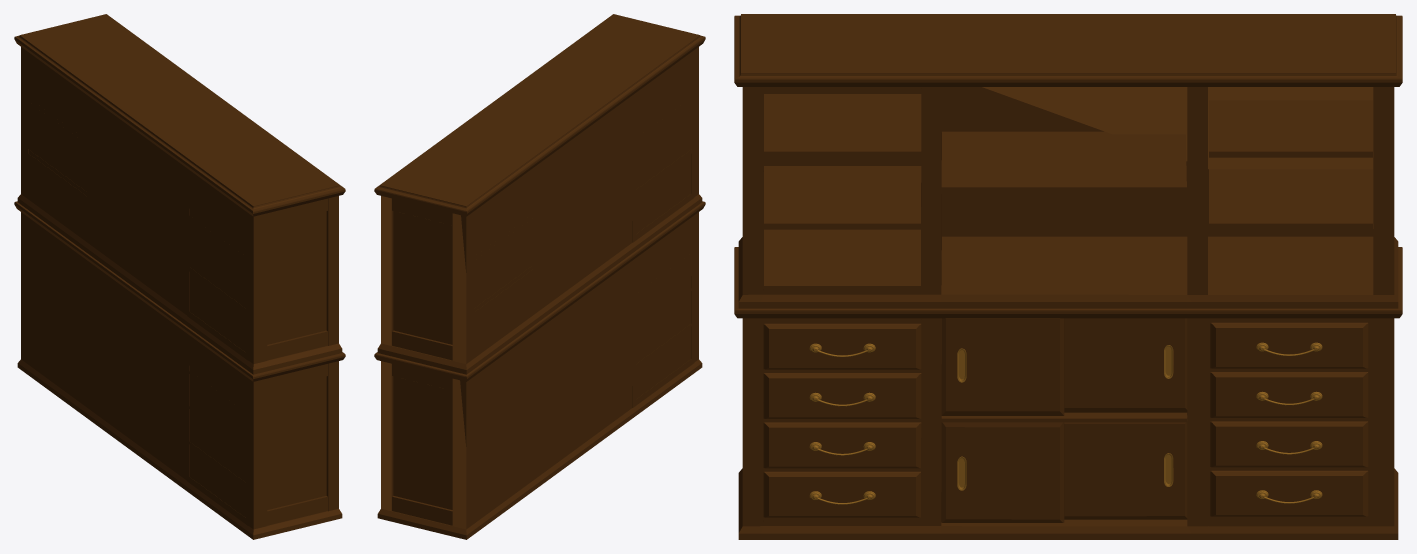
File: Bookshelf_final.fbx
The picture shows the model from 3 angles, left to right: view 1: azimuth 30°, elevation 25°; view 2: azimuth 150°, elevation 25°; view 3: azimuth 270°, elevation 25°; orthographic projection. The views are drawn at different scales.
Visible parts, largest first — view 1: Shelf; view 2: Shelf; view 3: Shelf, Bottom_Left_Sliding_Door, Bottom_Right_Sliding_Door, Top_Left_Sliding_Door, Top_Right_Sliding_Door, Right_Drawer_1, Right_Drawer_4, Left_Drawer_1, Right_Drawer_3, Left_Drawer_3, Left_Drawer_4, Left_Drawe_2 (+2 smaller).
Boxes of the visible parts, left/top/right/bottom form: Shelf: left=14, top=14, right=345, bottom=539; Shelf: left=374, top=14, right=705, bottom=539; Shelf: left=734, top=14, right=1402, bottom=539; Bottom_Left_Sliding_Door: left=941, top=422, right=1064, bottom=522; Bottom_Right_Sliding_Door: left=1064, top=415, right=1187, bottom=519; Top_Left_Sliding_Door: left=941, top=318, right=1064, bottom=415; Top_Right_Sliding_Door: left=1064, top=318, right=1187, bottom=412; Right_Drawer_1: left=1210, top=322, right=1368, bottom=368; Right_Drawer_4: left=1210, top=470, right=1368, bottom=516; Left_Drawer_1: left=763, top=323, right=921, bottom=369; Right_Drawer_3: left=1210, top=421, right=1368, bottom=467; Left_Drawer_3: left=763, top=422, right=921, bottom=468; Left_Drawer_4: left=763, top=471, right=920, bottom=517; Left_Drawe_2: left=763, top=373, right=921, bottom=418.
Bounding box in the file's own units: 344 × 1163 × 1512.
